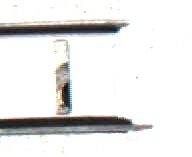40ngpress: (16, 19, 148, 132)
